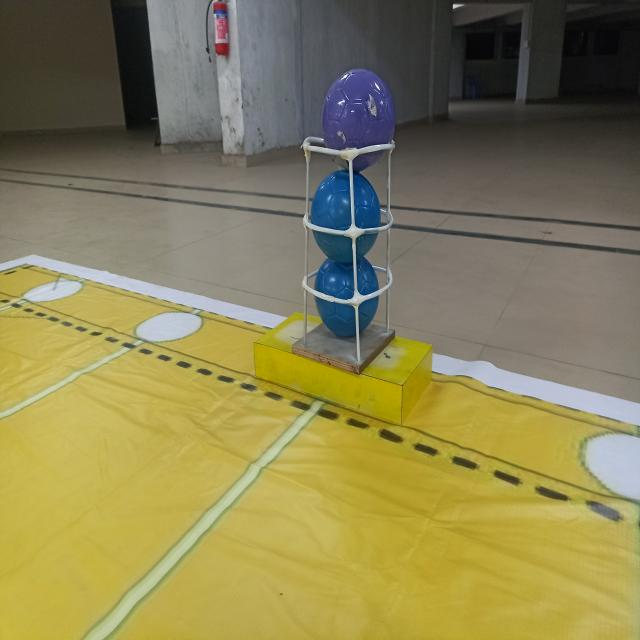blue_ball: (314, 172, 374, 259), (316, 258, 372, 332)
purple_ball: (321, 66, 394, 158)
silo: (301, 135, 395, 387)
